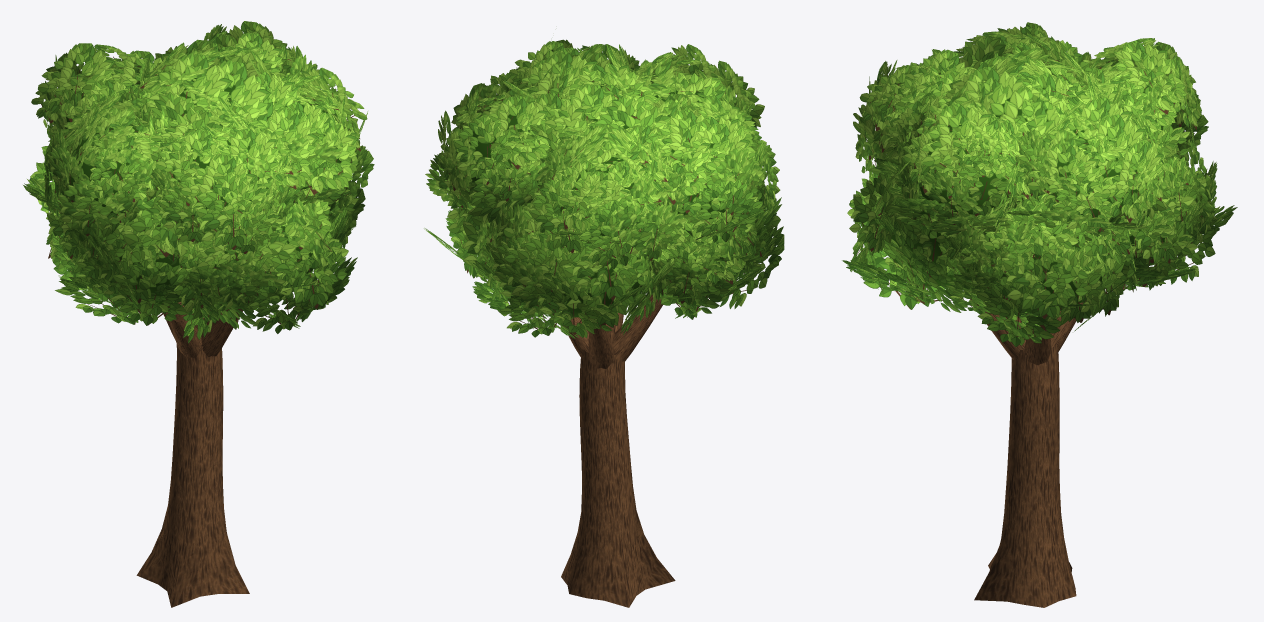
File: leafy_tree.glb
3 views of the same model, side by side, from view 1: azimuth 30°, elevation 25°; view 2: azimuth 150°, elevation 25°; view 3: azimuth 270°, elevation 25° (orthographic). The views are drawn at different scales.
Parts seen in each view (by area): view 1: leafy_tree; view 2: leafy_tree; view 3: leafy_tree.
Boxes of the visible parts, x1=… form: leafy_tree: x1=23, y1=21, x2=374, y2=607; leafy_tree: x1=424, y1=39, x2=784, y2=607; leafy_tree: x1=842, y1=22, x2=1237, y2=607.
Size of the model in its own units: 5.83 by 8.96 by 6.22.
Materials: 3 (2 with a texture image).
